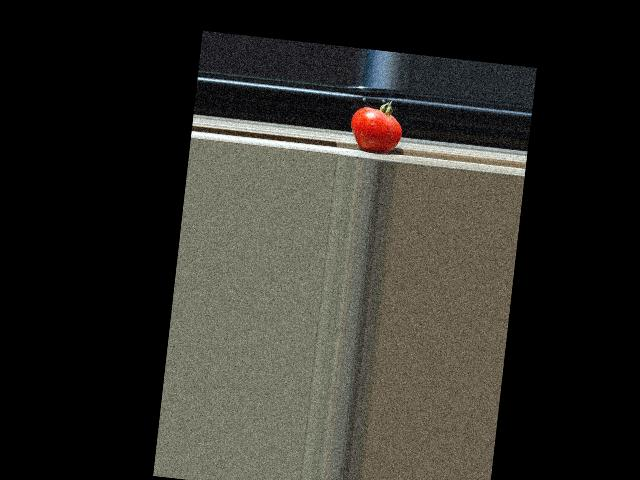tomato: (348, 96, 405, 154)
